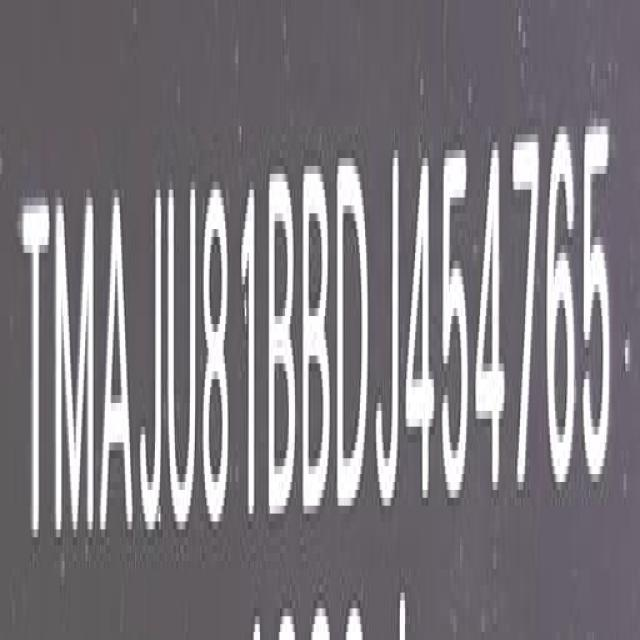1: (239, 181, 261, 524)
4: (402, 146, 437, 512), (474, 132, 507, 512)
5: (580, 114, 610, 489), (440, 143, 469, 510)
6: (546, 102, 578, 494)
7: (511, 126, 541, 515)
8: (201, 187, 231, 521)
A: (98, 184, 136, 559)
B: (300, 158, 332, 524), (266, 164, 298, 512)
D: (335, 164, 370, 518)
J: (372, 140, 404, 518), (140, 176, 164, 530)
M: (53, 187, 99, 559)
T: (21, 187, 54, 568)
U: (165, 184, 199, 538)
